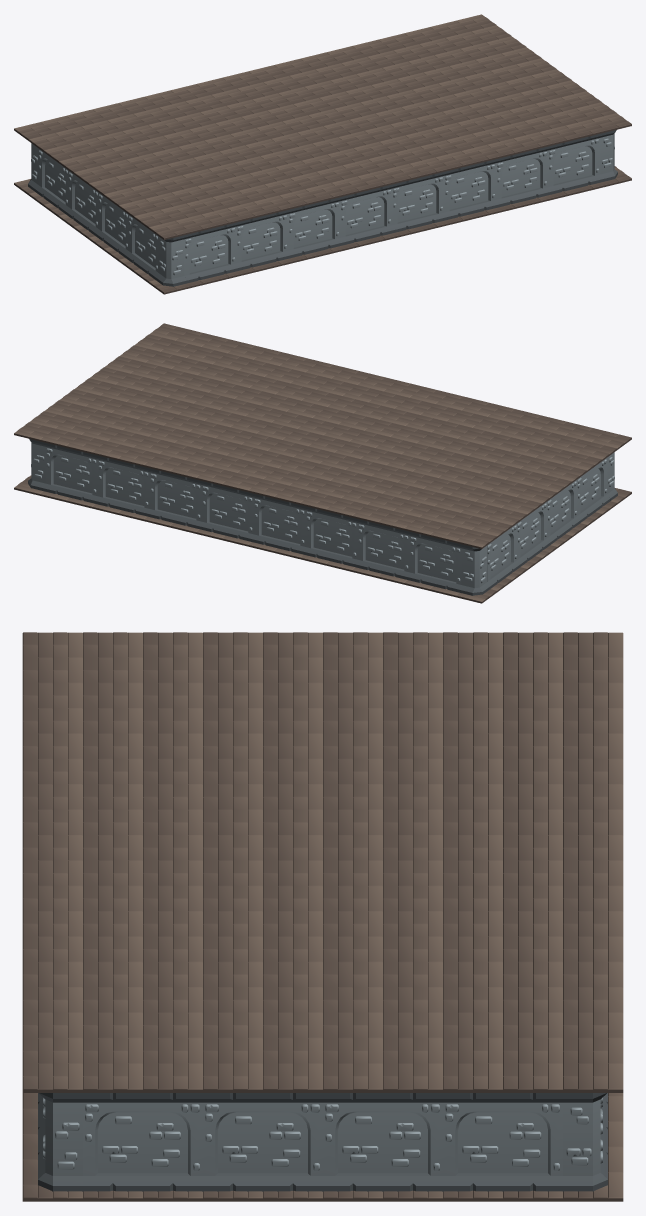
Rendered from LevelOne.fbx.
The picture shows the model from 3 angles, top to bottom: view 1: azimuth 30°, elevation 25°; view 2: azimuth 150°, elevation 25°; view 3: azimuth 270°, elevation 25°; orthographic projection. The views are drawn at different scales.
Parts seen in each view (by area): view 1: wall_arched.004, wall_arched.008, wall_arched.003, wall_arched.006, wall_arched.001, wall_arched.002, wall_arched.005, wall_arched.007, floor_wood_large_dark.085, floor_wood_large_dark.086, floor_wood_large_dark.090, floor_wood_large_dark.083 (+48 smaller); view 2: wall_arched.024, wall_arched.020, wall_arched.021, wall_arched.017, wall_arched.019, wall_arched.022, wall_arched.018, wall_arched.023, floor_wood_large_dark.058, floor_wood_large_dark.050, floor_wood_large_dark.054, floor_wood_large_dark.066 (+48 smaller); view 3: wall_arched.009, wall_arched.014, wall_arched.015, wall_arched.016, floor_wood_large_dark.078, floor_wood_large_dark.090, floor_wood_large_dark.075, floor_wood_large_dark.076, floor_wood_large_dark.077, floor_wood_large_dark.070, floor_wood_large_dark.088, floor_wood_large_dark.058 (+46 smaller).
Part boxes in pixels (box(x1,y1,x2,y2)): wall_arched.004: box(392, 171, 446, 232); wall_arched.008: box(184, 222, 238, 283); wall_arched.003: box(444, 159, 498, 219); wall_arched.006: box(288, 197, 342, 258); wall_arched.001: box(548, 133, 602, 194); wall_arched.002: box(496, 146, 550, 207); wall_arched.005: box(340, 184, 394, 245); wall_arched.007: box(236, 209, 290, 270); floor_wood_large_dark.085: box(134, 204, 215, 239); floor_wood_large_dark.086: box(342, 153, 423, 189); floor_wood_large_dark.090: box(550, 102, 631, 138); floor_wood_large_dark.083: box(186, 191, 267, 227); wall_arched.024: box(407, 531, 461, 592); wall_arched.020: box(199, 480, 253, 541); wall_arched.021: box(251, 493, 305, 554); wall_arched.017: box(43, 442, 97, 503); wall_arched.019: box(147, 468, 201, 528); wall_arched.022: box(303, 506, 357, 567); wall_arched.018: box(95, 455, 149, 516); wall_arched.023: box(355, 518, 409, 579); floor_wood_large_dark.058: box(430, 513, 511, 548); floor_wood_large_dark.050: box(378, 500, 459, 536); floor_wood_large_dark.054: box(326, 487, 407, 523); floor_wood_large_dark.066: box(170, 449, 251, 485); wall_arched.009: box(83, 1093, 202, 1191); wall_arched.014: box(203, 1093, 322, 1191); wall_arched.015: box(323, 1093, 442, 1191); wall_arched.016: box(443, 1093, 562, 1191); floor_wood_large_dark.078: box(503, 1038, 623, 1092); floor_wood_large_dark.090: box(22, 1038, 142, 1092); floor_wood_large_dark.075: box(143, 1038, 262, 1092); floor_wood_large_dark.076: box(263, 1038, 382, 1092); floor_wood_large_dark.077: box(383, 1038, 502, 1092); floor_wood_large_dark.070: box(503, 784, 623, 835); floor_wood_large_dark.088: box(22, 784, 142, 835); floor_wood_large_dark.058: box(503, 632, 623, 683).
Size of the model in its own units: 36 by 4.15 by 20.
Materials: 3 (3 with a texture image).
